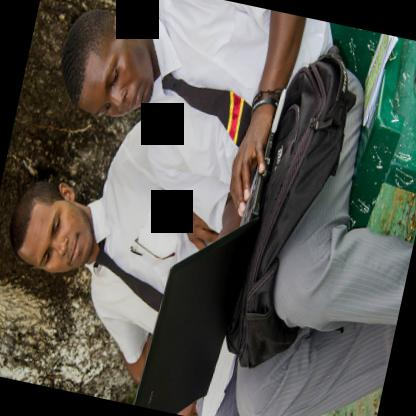backpack: (226, 42, 358, 363)
